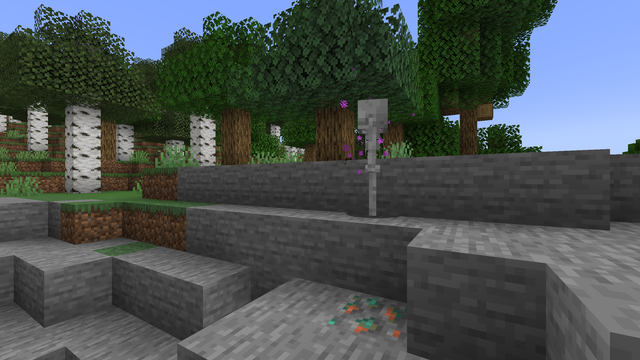squelettes: (350, 96, 392, 216)
